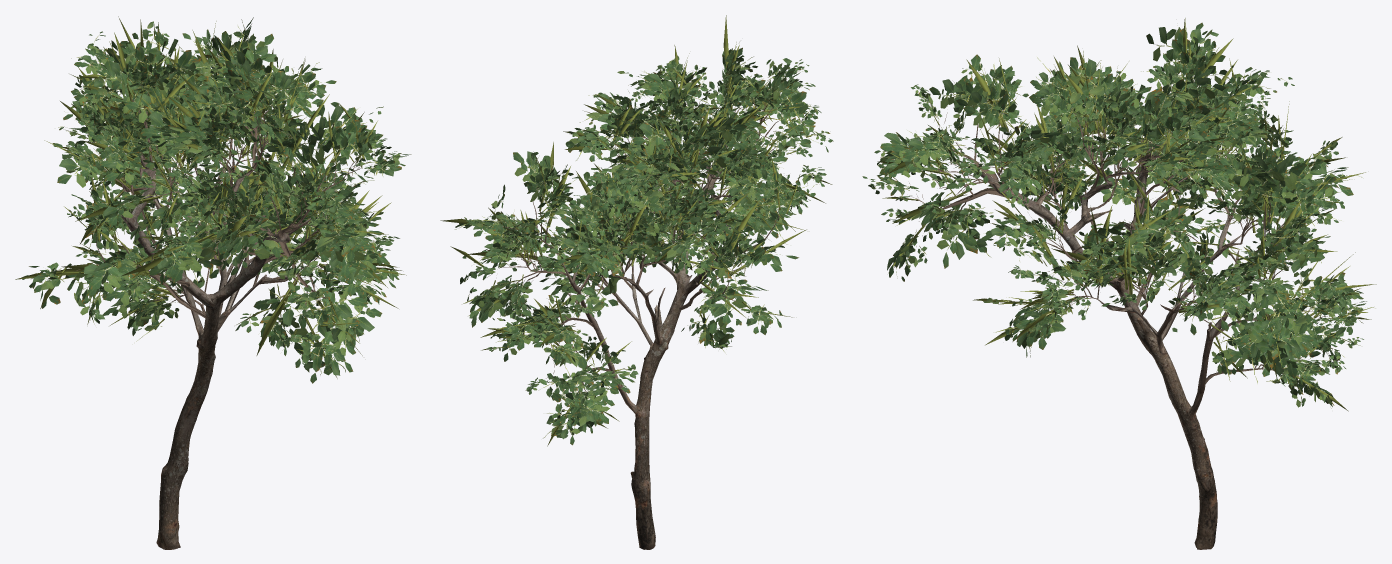
The model's file is tree_small_02.glb.
3 renders of one model, left to right at view 1: azimuth 30°, elevation 25°; view 2: azimuth 150°, elevation 25°; view 3: azimuth 270°, elevation 25°, orthographic. The views are drawn at different scales.
Parts seen in each view (by area): view 1: broadleaf_a_LOD0_leaves, broadleaf_a_LOD1_leaves, broadleaf_a_LOD2_leaves, broadleaf_a_LOD0_trunk, broadleaf_a_LOD2_trunk, broadleaf_a_LOD1_trunk, broadleaf_a_LOD0_branches, broadleaf_a_LOD1_branches, broadleaf_a_LOD2_branches; view 2: broadleaf_a_LOD0_leaves, broadleaf_a_LOD1_leaves, broadleaf_a_LOD2_leaves, broadleaf_a_LOD0_trunk, broadleaf_a_LOD2_trunk, broadleaf_a_LOD1_trunk, broadleaf_a_LOD0_branches, broadleaf_a_LOD1_branches, broadleaf_a_LOD2_branches; view 3: broadleaf_a_LOD0_leaves, broadleaf_a_LOD1_leaves, broadleaf_a_LOD2_leaves, broadleaf_a_LOD0_trunk, broadleaf_a_LOD1_trunk, broadleaf_a_LOD0_branches, broadleaf_a_LOD2_trunk, broadleaf_a_LOD1_branches, broadleaf_a_LOD2_branches.
Boxes of the visible parts, x1,y1,x2,y2 form: broadleaf_a_LOD0_leaves: (15,19,411,383); broadleaf_a_LOD1_leaves: (22,16,395,375); broadleaf_a_LOD2_leaves: (44,30,401,375); broadleaf_a_LOD0_trunk: (121,155,310,549); broadleaf_a_LOD2_trunk: (121,162,292,546); broadleaf_a_LOD1_trunk: (124,153,293,549); broadleaf_a_LOD0_branches: (74,72,376,335); broadleaf_a_LOD1_branches: (92,97,359,318); broadleaf_a_LOD2_branches: (97,101,339,316); broadleaf_a_LOD0_leaves: (440,42,832,446); broadleaf_a_LOD1_leaves: (469,15,833,427); broadleaf_a_LOD2_leaves: (450,53,828,438); broadleaf_a_LOD0_trunk: (556,156,743,549); broadleaf_a_LOD2_trunk: (569,166,730,549); broadleaf_a_LOD1_trunk: (565,157,730,549); broadleaf_a_LOD0_branches: (498,81,794,392); broadleaf_a_LOD1_branches: (507,102,774,377); broadleaf_a_LOD2_branches: (521,103,772,369); broadleaf_a_LOD0_leaves: (868,18,1376,411); broadleaf_a_LOD1_leaves: (862,27,1375,400); broadleaf_a_LOD2_leaves: (875,28,1366,407); broadleaf_a_LOD0_trunk: (981,134,1248,549); broadleaf_a_LOD1_trunk: (983,140,1245,549); broadleaf_a_LOD0_branches: (909,76,1341,384); broadleaf_a_LOD2_trunk: (989,135,1239,547); broadleaf_a_LOD1_branches: (923,116,1329,383); broadleaf_a_LOD2_branches: (937,123,1311,382).
Bounding box in the file's own units: 3.17 × 4.75 × 4.41.
Materials: 3 (3 with a texture image).
